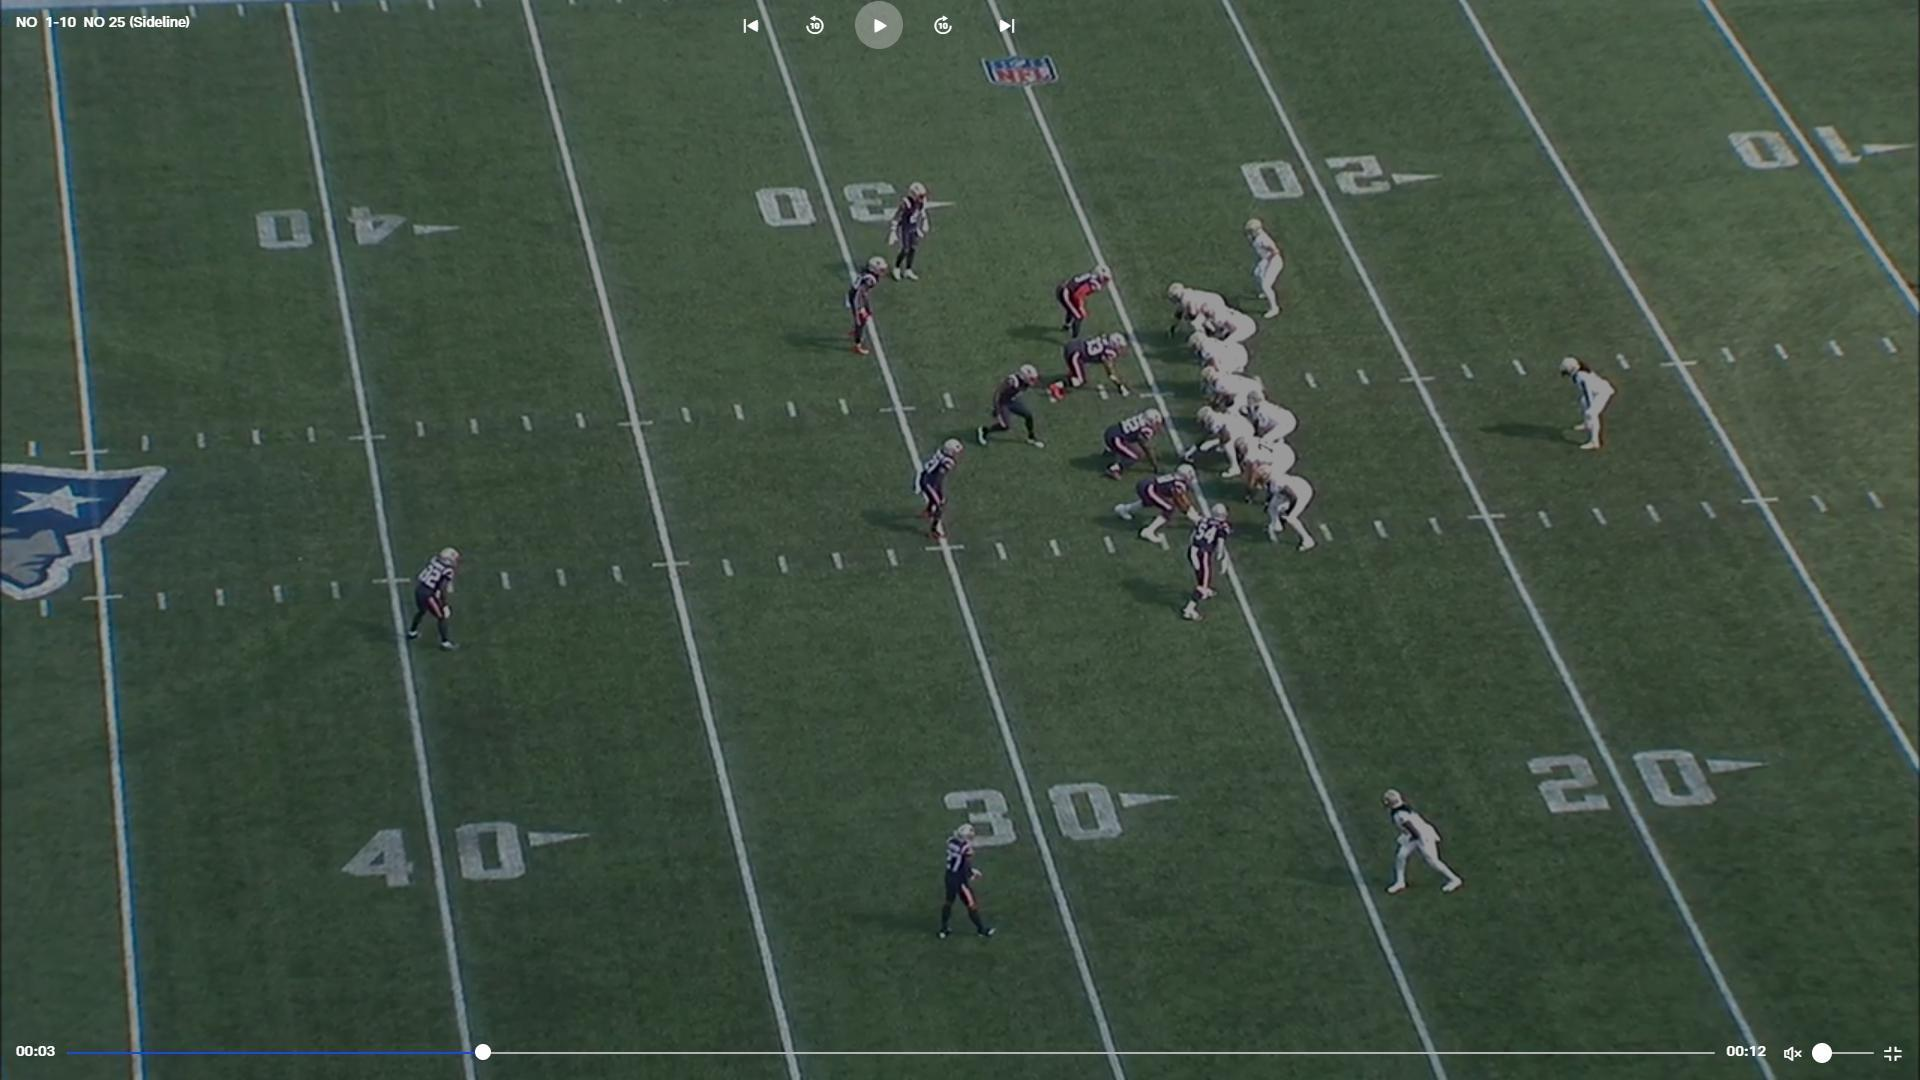defense: (934, 819, 1000, 948), (1112, 469, 1204, 547), (404, 546, 467, 655), (1179, 497, 1233, 625), (980, 363, 1052, 458), (1048, 330, 1137, 406), (915, 436, 967, 550), (1097, 404, 1167, 484), (885, 178, 936, 286), (844, 252, 889, 361), (1056, 265, 1116, 347)
oline: (1253, 469, 1320, 556), (1184, 405, 1254, 484), (1240, 433, 1302, 512), (1207, 369, 1274, 435), (1197, 334, 1258, 390)
qb: (1245, 384, 1300, 444)
skill: (1379, 786, 1470, 901), (1561, 357, 1619, 458), (1246, 212, 1292, 322), (1199, 301, 1261, 376), (1166, 281, 1225, 344)
